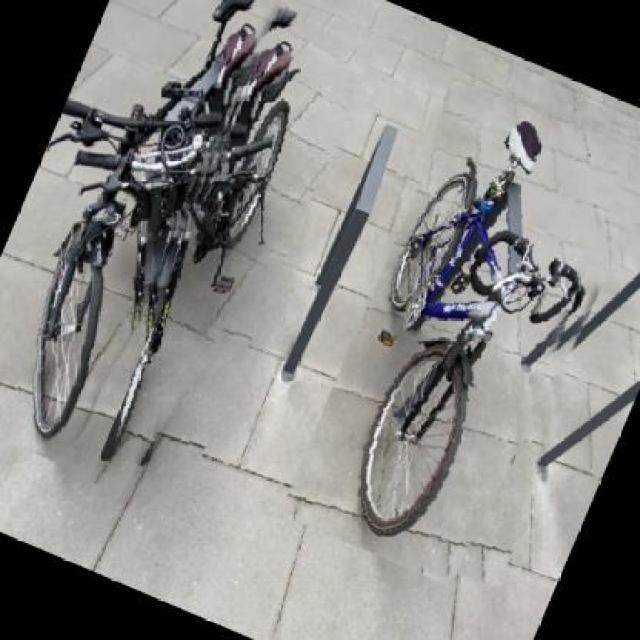bicycle: (278, 64, 640, 598), (0, 0, 375, 515), (0, 0, 303, 477)
